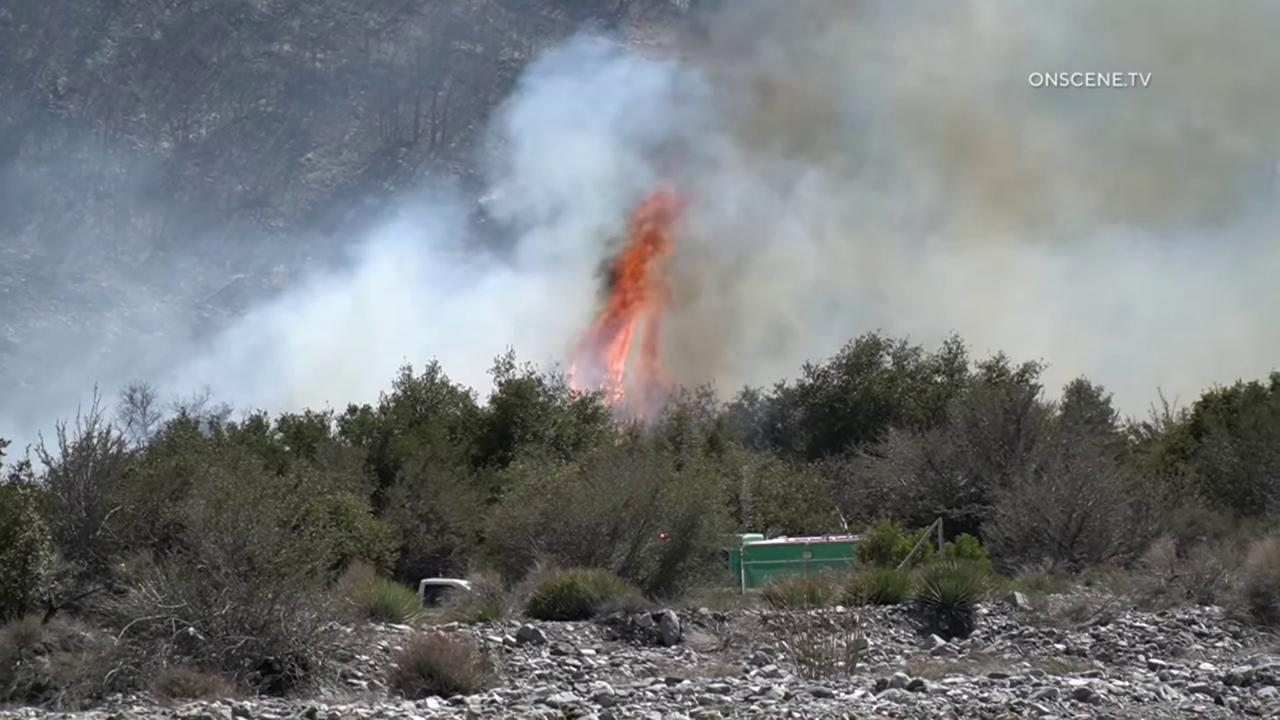fire: (560, 187, 695, 421), (660, 533, 664, 538)
smoke: (0, 0, 1280, 481)
